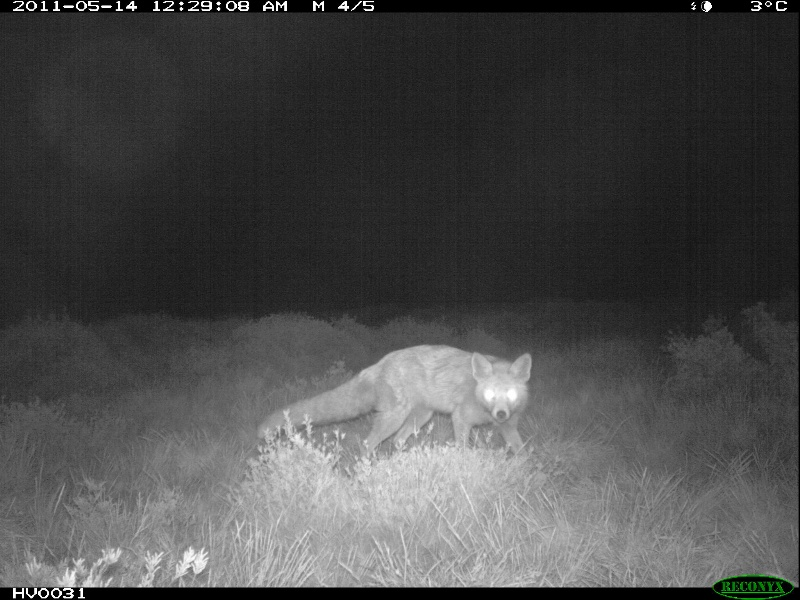fox: (256, 341, 536, 465)
